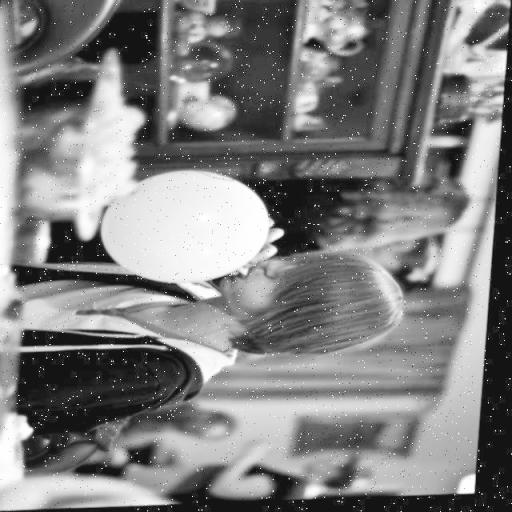balloon: (103, 166, 279, 289)
